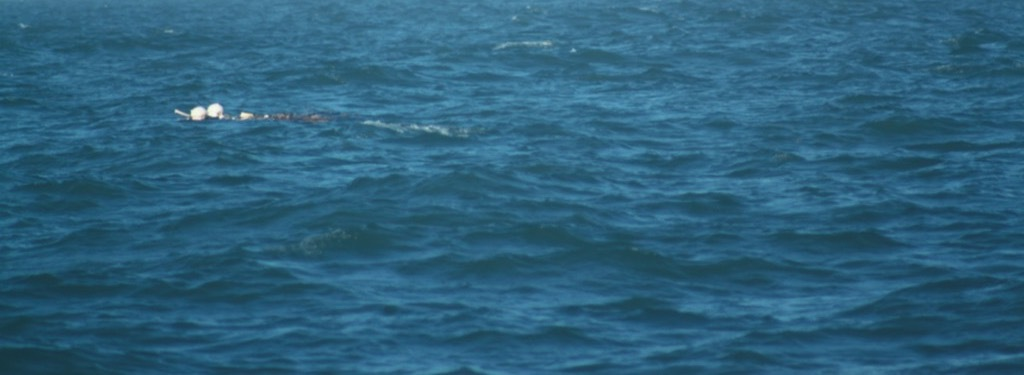plastic: (146, 77, 405, 165)
